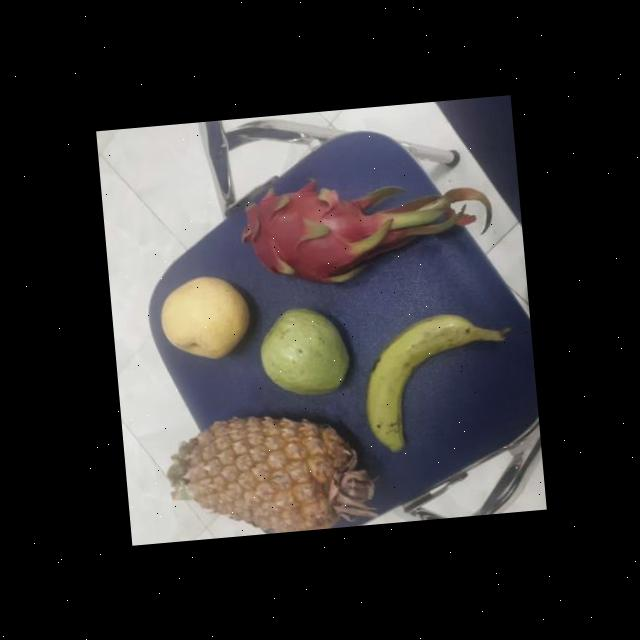banana: (356, 304, 499, 448)
guava: (256, 300, 348, 398)
pear: (158, 267, 253, 364)
pineapple: (161, 401, 376, 541)
pitaya: (240, 173, 386, 291)
